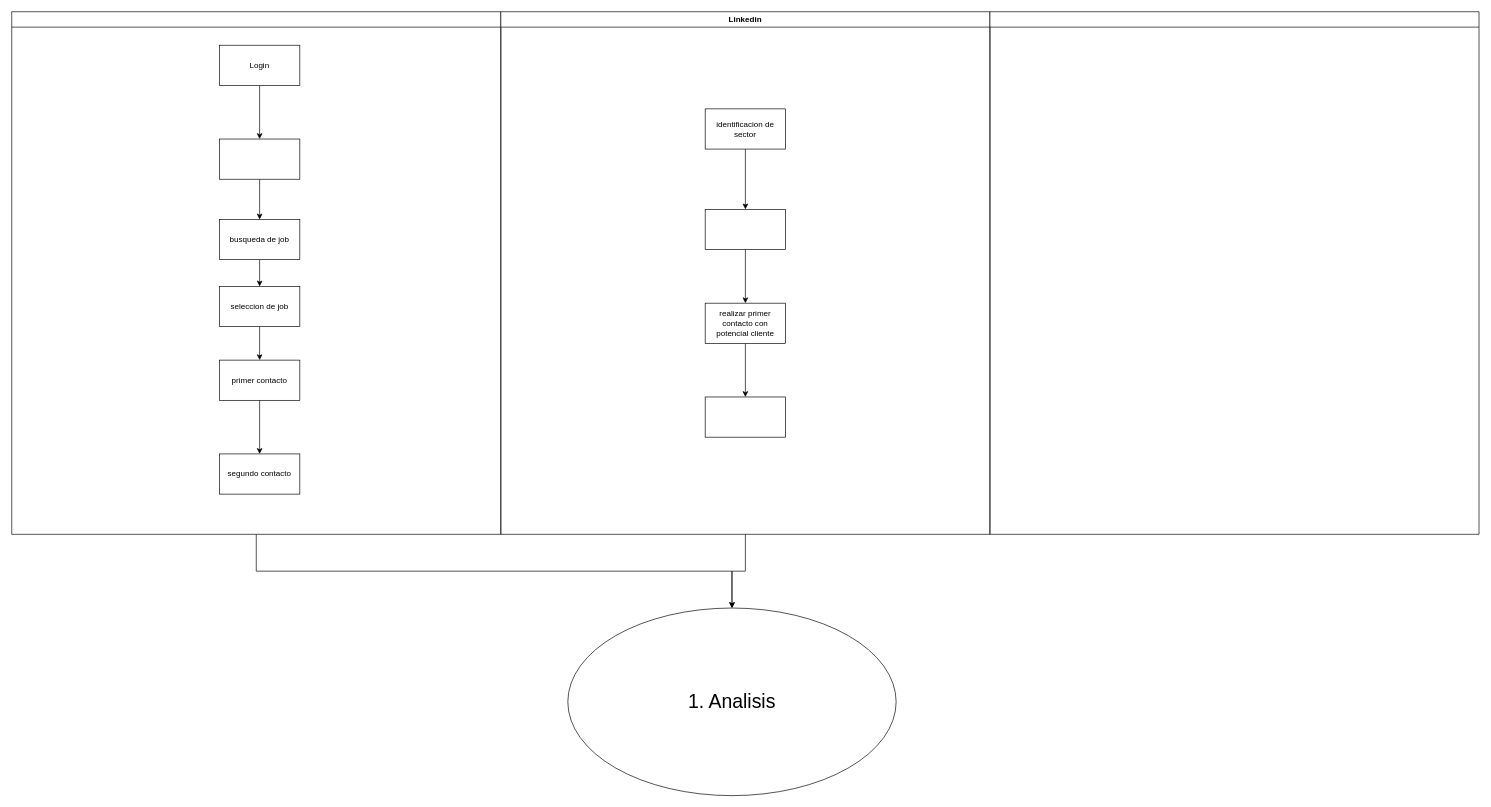
The diagram is 1491 pixels wide and 807 high, and some of its shapes have lost their labels. The shapes that lost their labels are listed below. From the top down, each one's box as (x1, y1, x2, y2) in pixels, then its label:
(219, 138, 300, 179): criterios de busqueda
(705, 209, 786, 250): identificacion de buyer persona
(11, 11, 501, 534): Upwork
(989, 11, 1479, 534): Canal3
(705, 396, 786, 437): segundo contacto con potencial cliente
